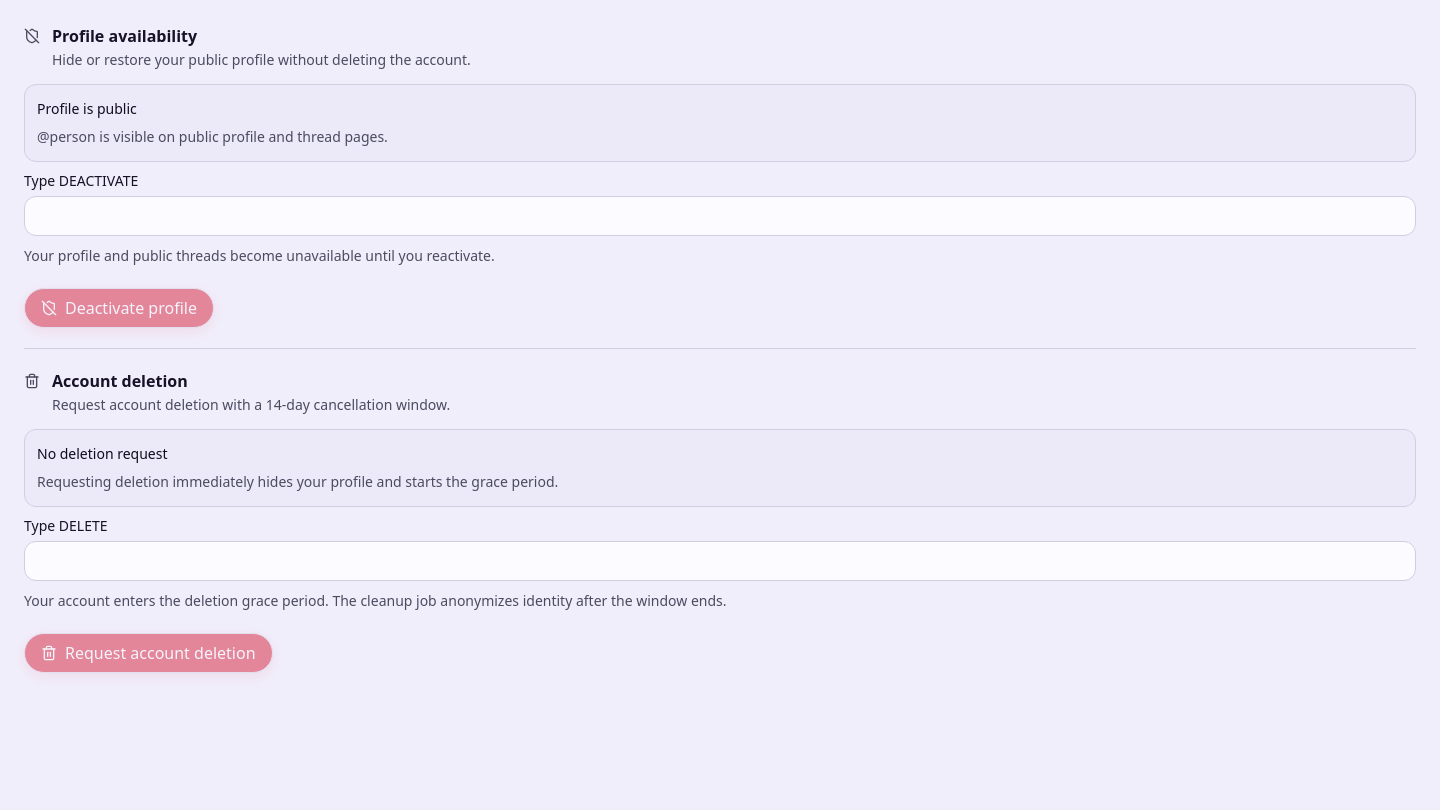
Scenario: AccountSettingsForm › requires typed confirmations before enabling destructive actions
The image size is (1440, 810).
Expected: the button "Deactivate profile" is disabled, [24,288,214,328]
Expected: the button "Request account deletion" is disabled, [24,633,272,673]
Step 1. Type "DEACTIVATE" into the field labelled "Type DEACTIVATE" → (720, 216), box [24,196,1416,236]
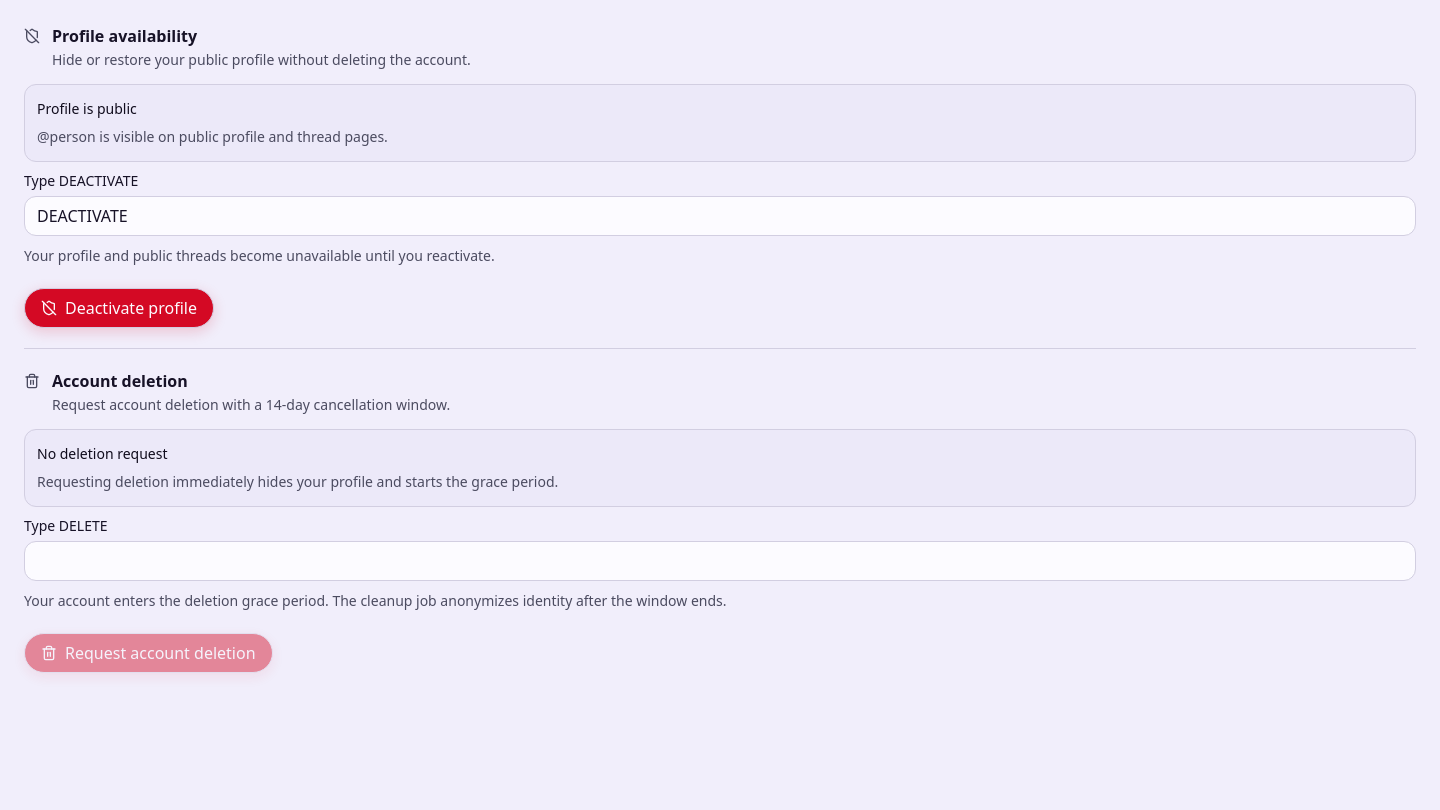
Step 2. Type "DELETE" into the field labelled "Type DELETE" → (720, 561), box [24,541,1416,581]
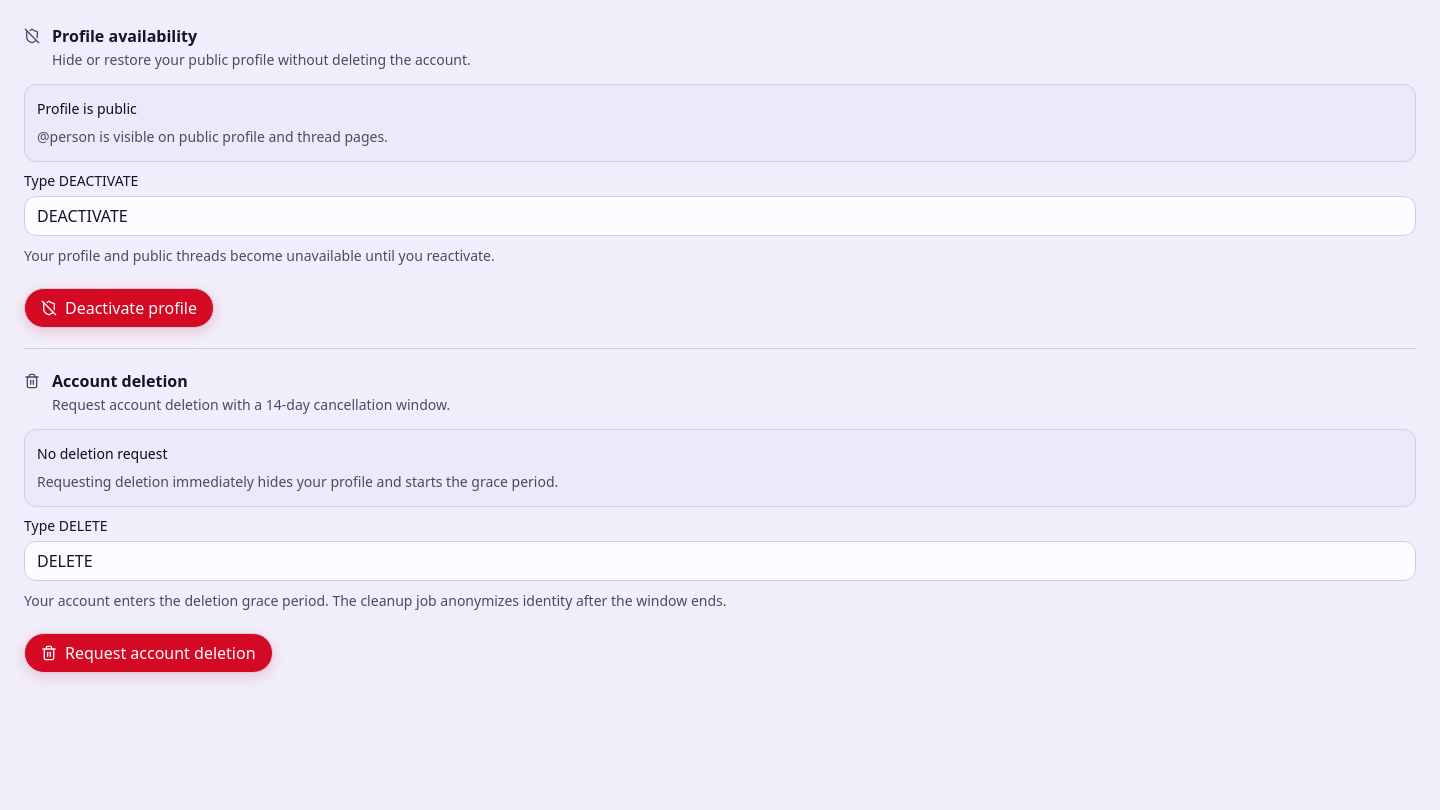
Result: the button "Deactivate profile" is enabled at [24,288,214,328]
Result: the button "Request account deletion" is enabled at [24,633,272,673]
